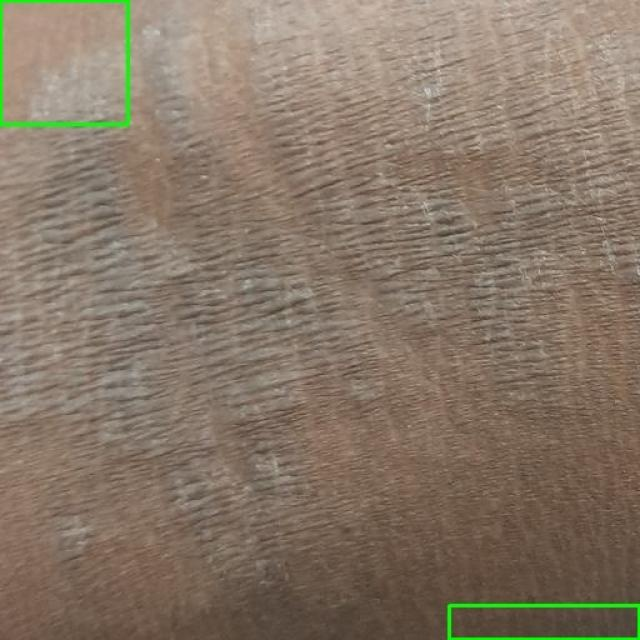Tinea Corporis: (0, 0, 128, 124), (449, 605, 639, 639)
